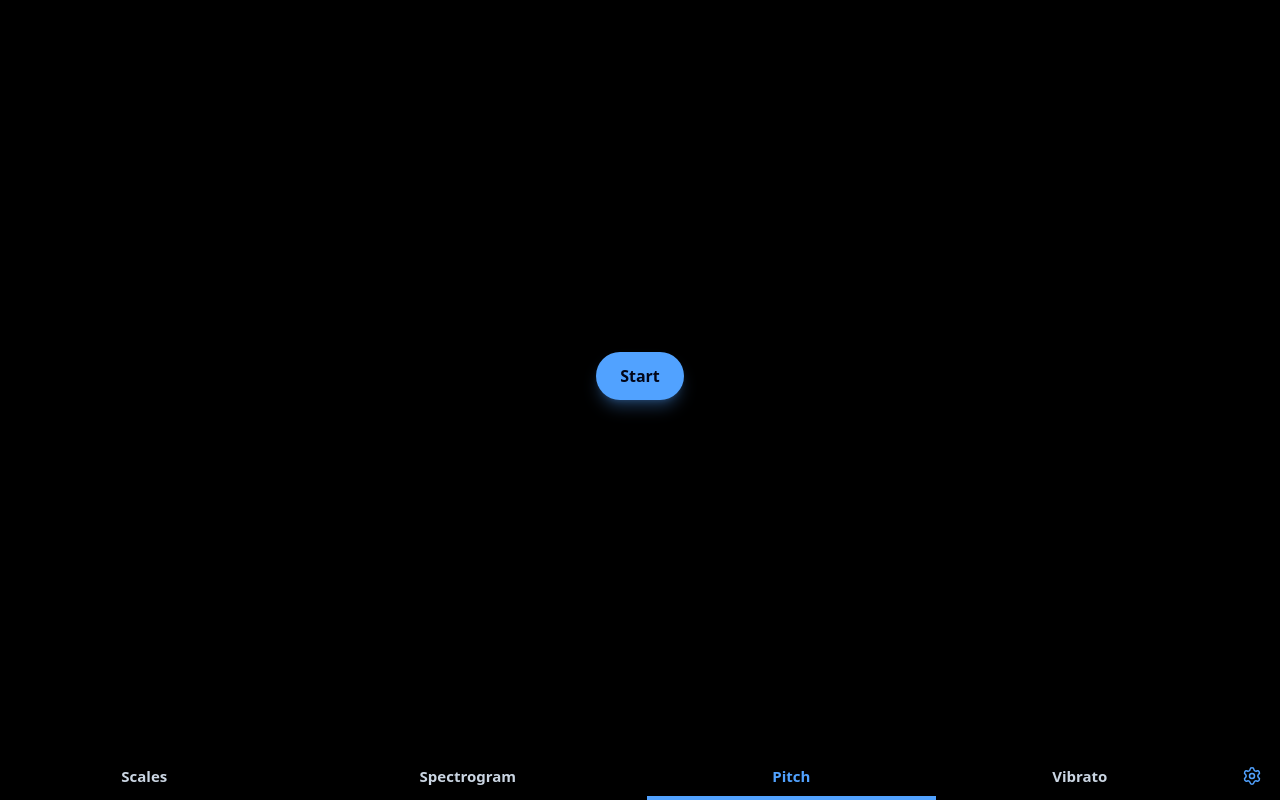
Test: Settings › Battery use shows -- in the first minute
Click the button named "Open settings": [1252, 776] box top-left (1232, 752), bottom-right (1272, 799)
(page scrolled)
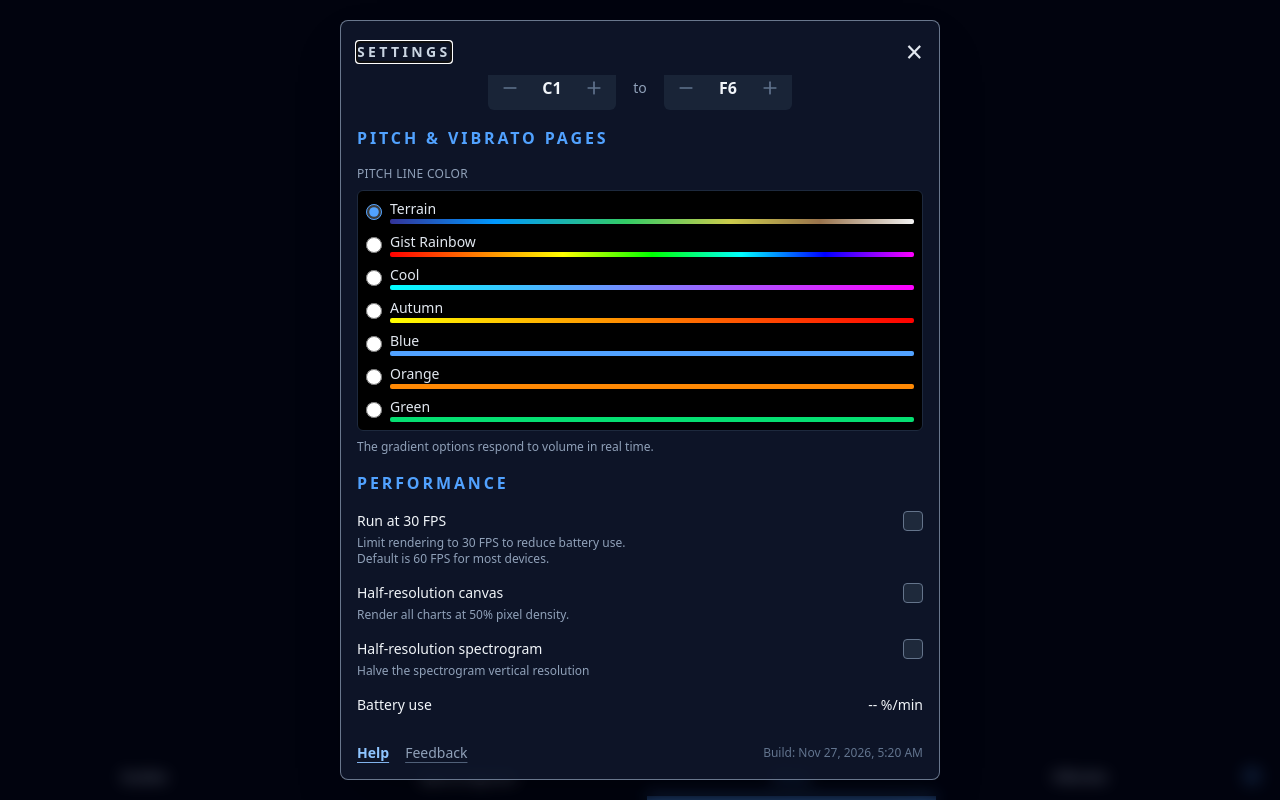
Expected: the text "Battery use" is shown, top-left (357, 695), bottom-right (432, 715)
Expected: the text "-- %/min" is shown, top-left (868, 695), bottom-right (923, 715)
